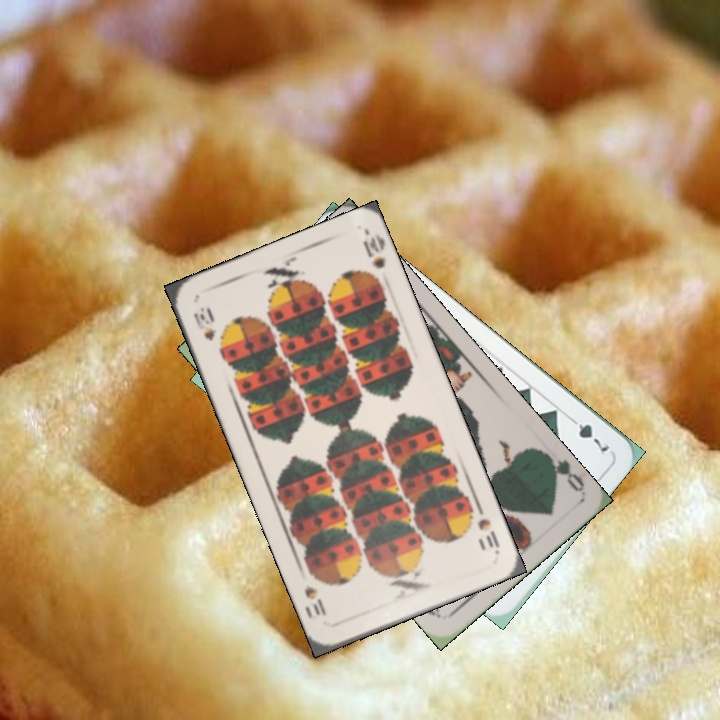G7: (564, 411, 612, 459)
GO: (539, 447, 587, 494)
S10: (472, 498, 503, 556), (189, 303, 219, 344)
